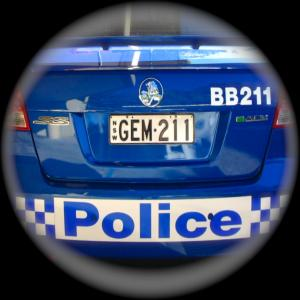Vehicle-registration-plate: (111, 114, 195, 146)
